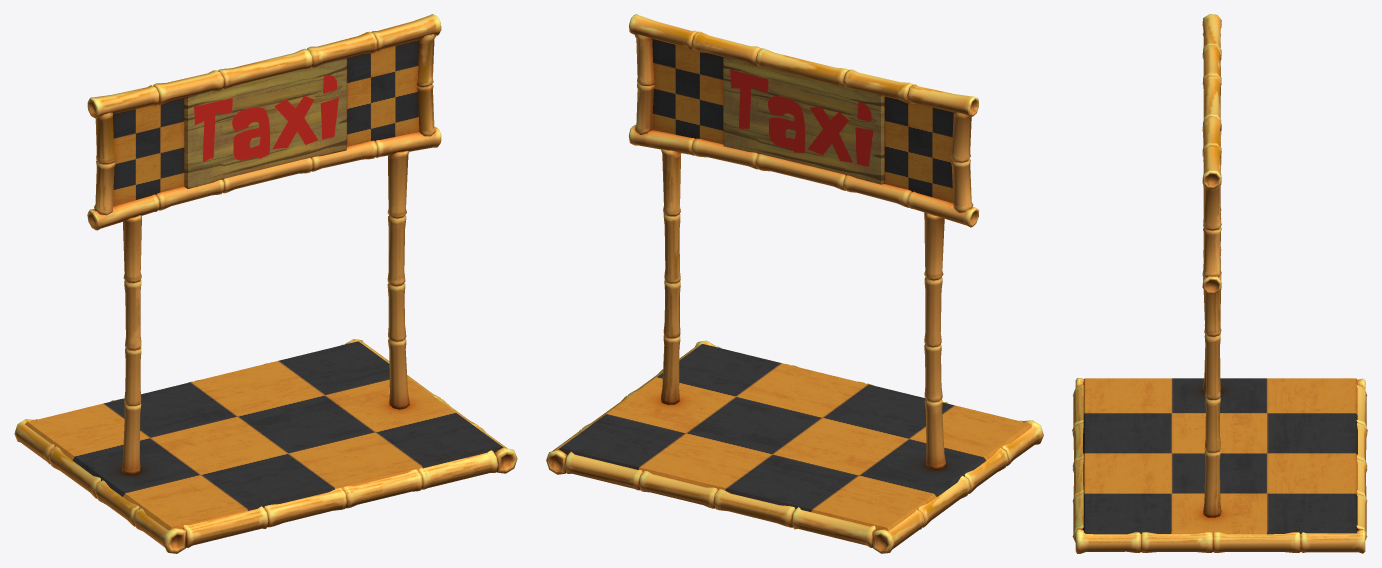
The model's file is Taxi Stop.obj.
3 renders of one model, left to right at view 1: azimuth 30°, elevation 25°; view 2: azimuth 150°, elevation 25°; view 3: azimuth 270°, elevation 25°, orthographic. The views are drawn at different scales.
Parts seen in each view (by area): view 1: Taxi_Stop; view 2: Taxi_Stop; view 3: Taxi_Stop.
Part boxes in pixels (<box>): Taxi_Stop: <box>14,14,517,553</box>; Taxi_Stop: <box>546,14,1043,553</box>; Taxi_Stop: <box>1072,14,1367,553</box>.
Bounding box in the file's own units: 30.52 × 33.39 × 23.4.
